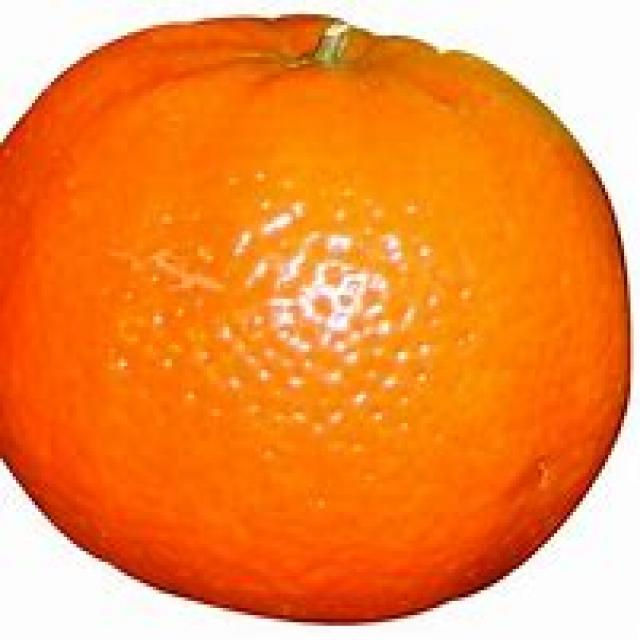Orange: (0, 12, 640, 628)
